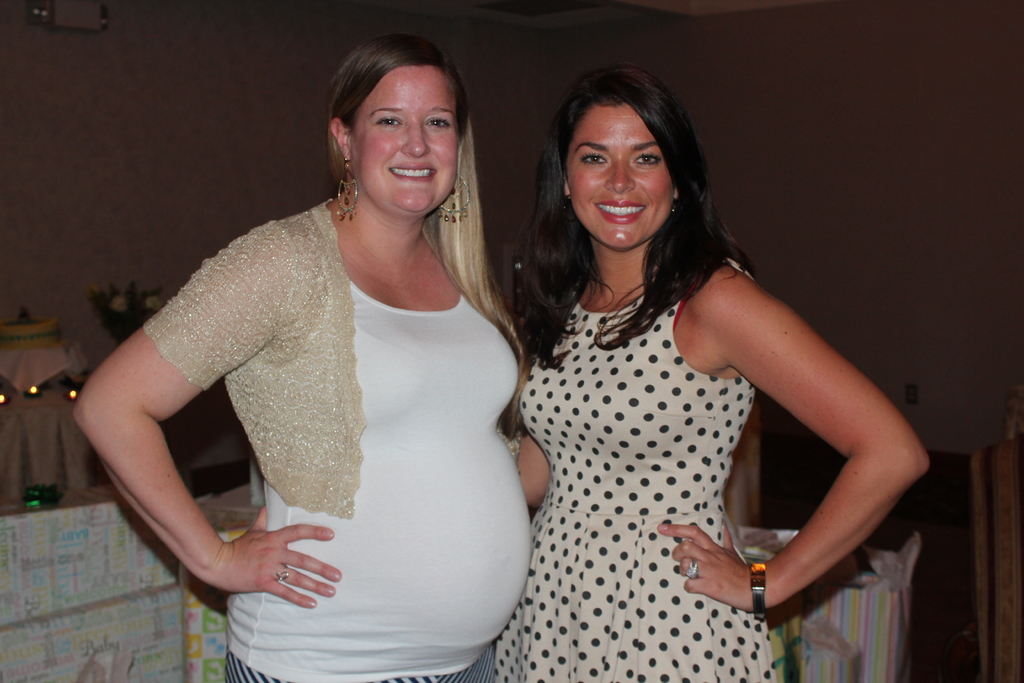Human_hand: (189, 509, 344, 609), (657, 518, 753, 617)
